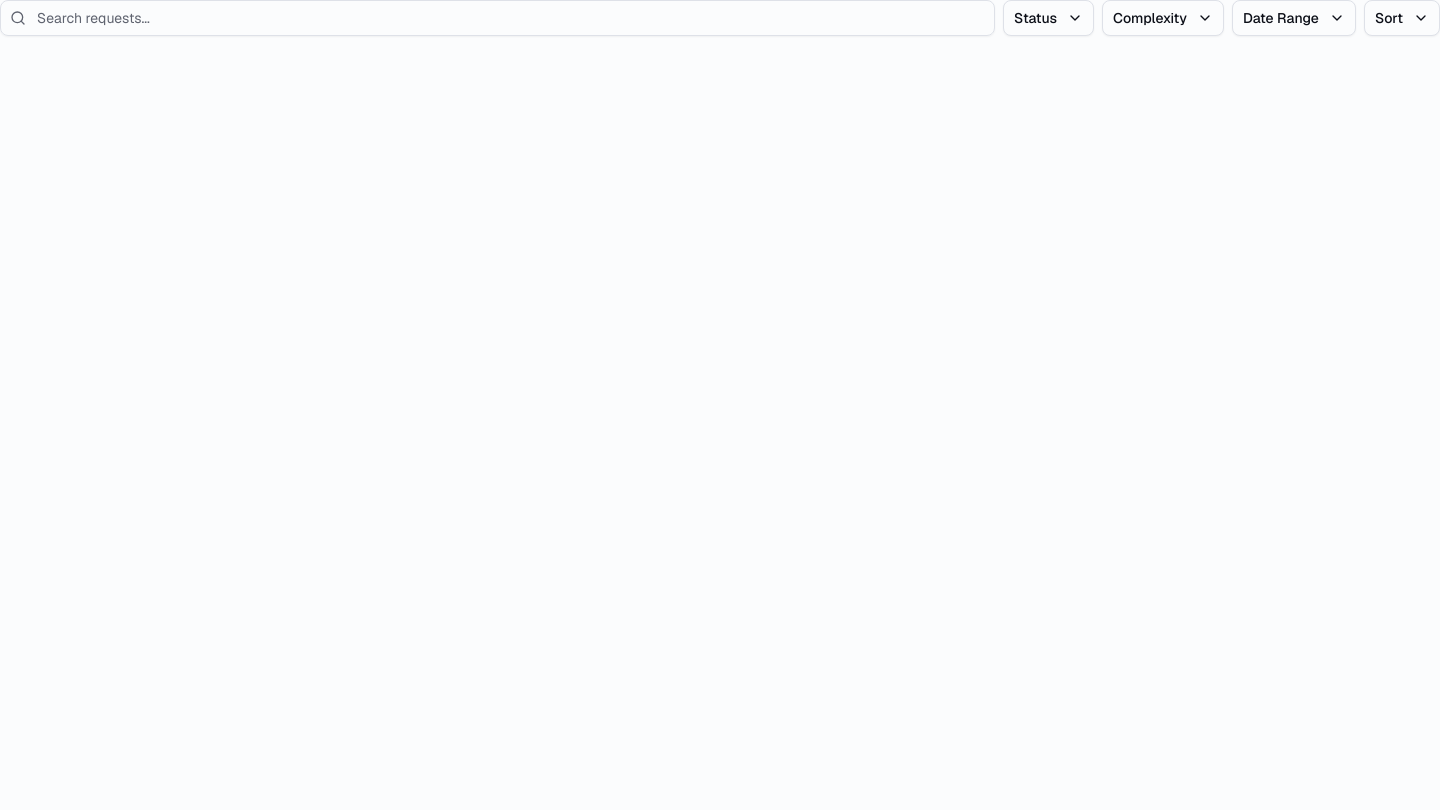
Test case: SearchFilterBar › status filter popover › should open the popover and reveal status checkboxes
The width and height of the screenshot is (1440, 810).
What coordinates should you click on to do the following:
click the button "Status"
I would click on:
 (1049, 18)
Its box is [1003,0,1094,36].
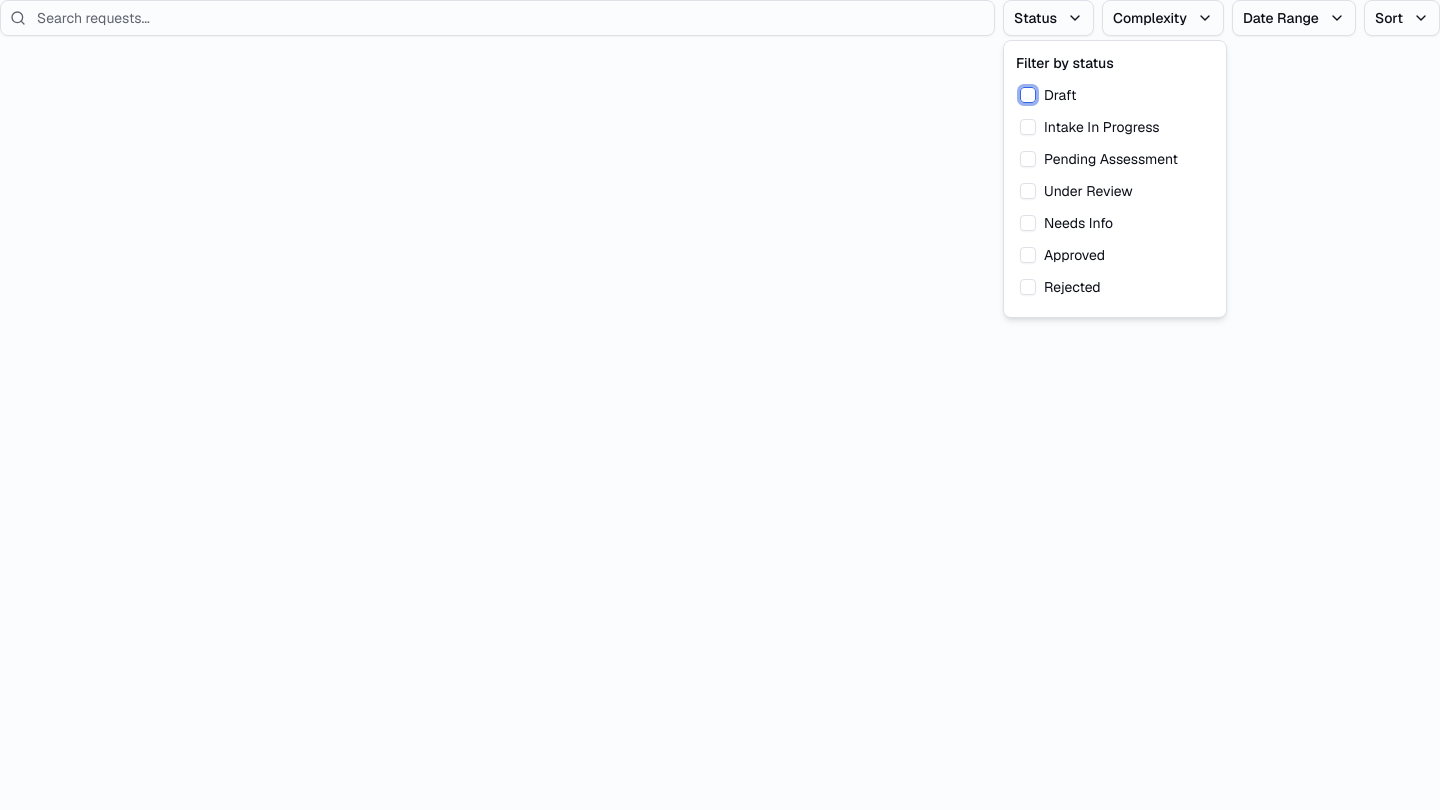
Expected: the text "Under Review" is shown, [1044,181,1133,201]
Expected: the text "Approved" is shown, [1044,245,1105,265]
